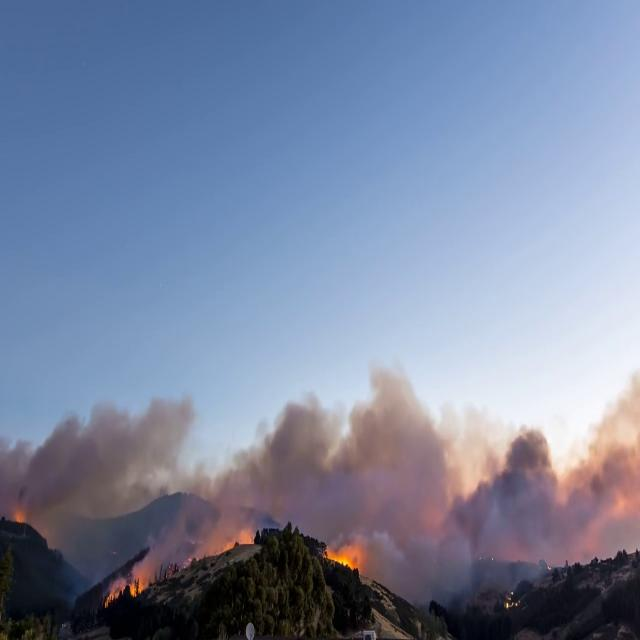Fire: (220, 527, 253, 552), (328, 550, 354, 572), (505, 588, 519, 610), (129, 578, 144, 596), (106, 588, 119, 606), (14, 514, 24, 526)
Smoke: (328, 358, 501, 554), (0, 380, 194, 520), (500, 377, 640, 567), (189, 392, 329, 560), (358, 556, 544, 602), (130, 523, 188, 598), (67, 522, 121, 601), (104, 574, 130, 609)
